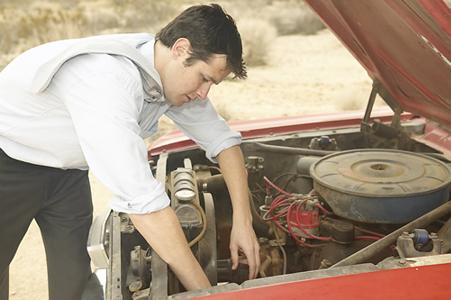person: (1, 5, 261, 300)
